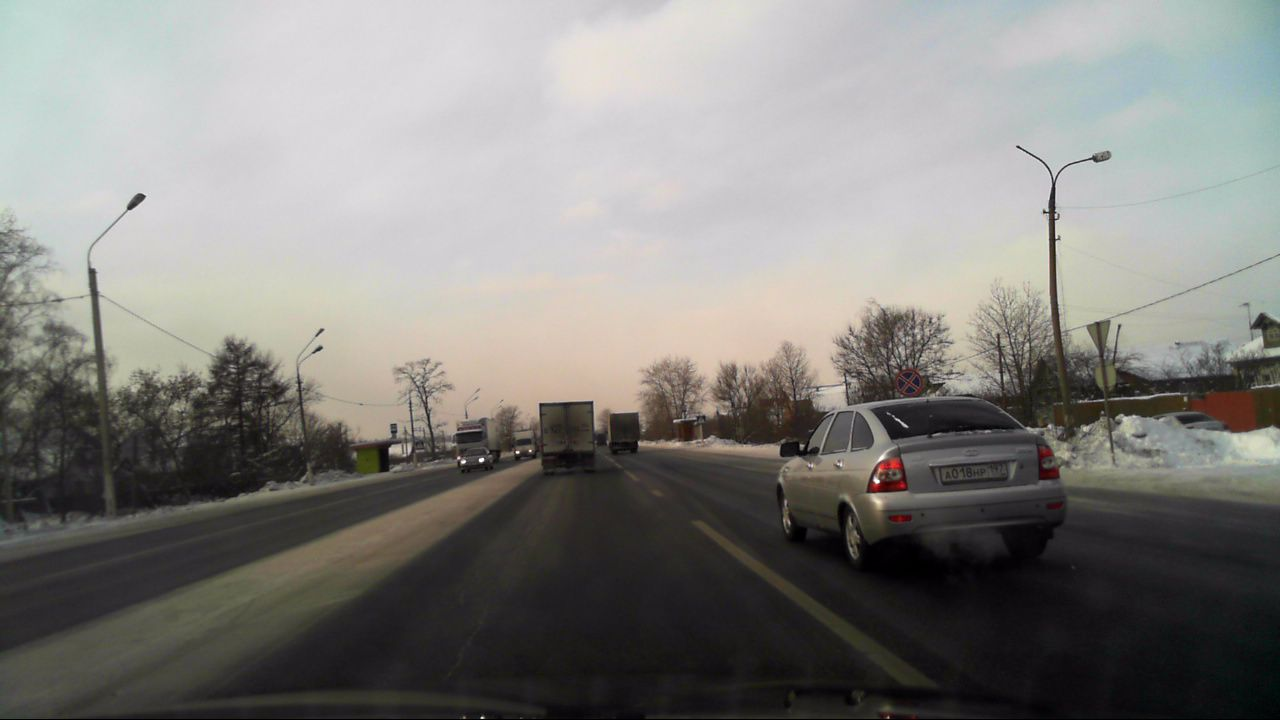No Parking: (896, 369, 923, 397)
